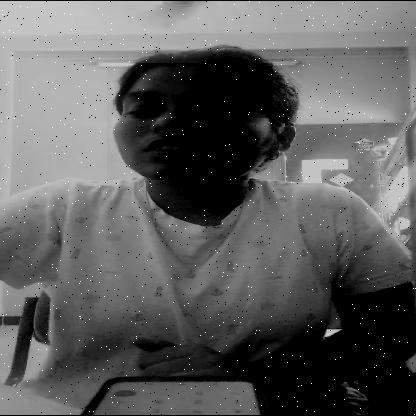Distracted: (106, 63, 272, 180)
